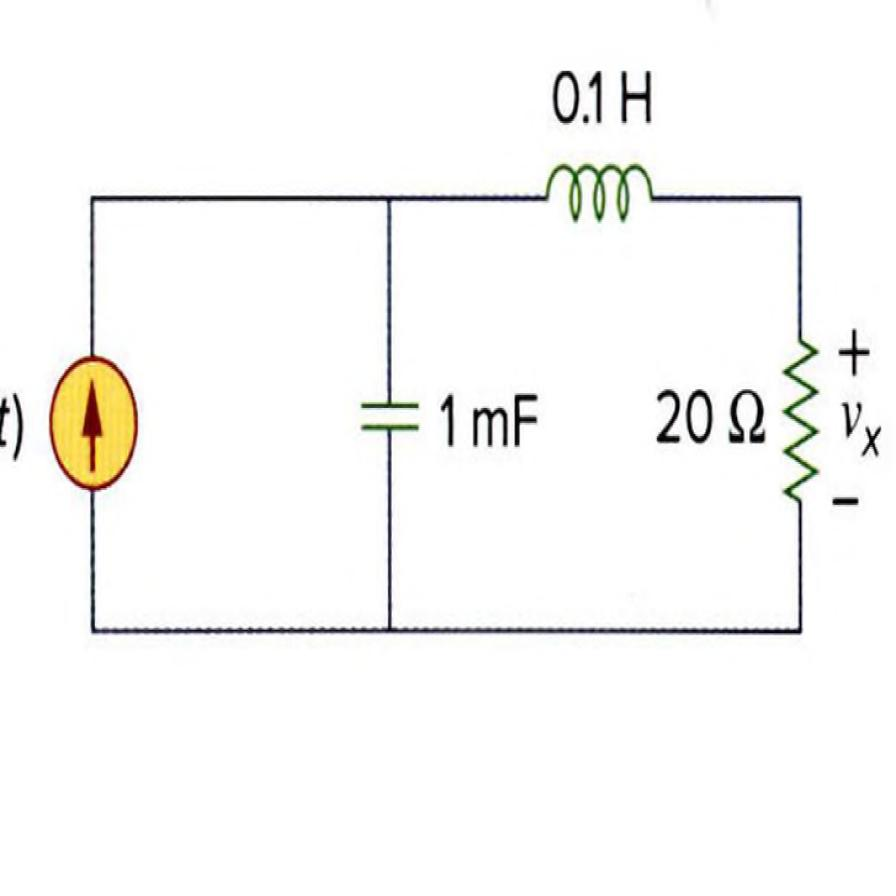C2: (352, 377, 425, 451)
I1: (49, 358, 136, 488)
L1: (536, 156, 661, 231)
